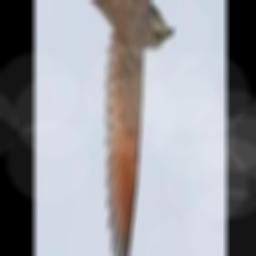Cuckoo: (50, 0, 174, 256)
